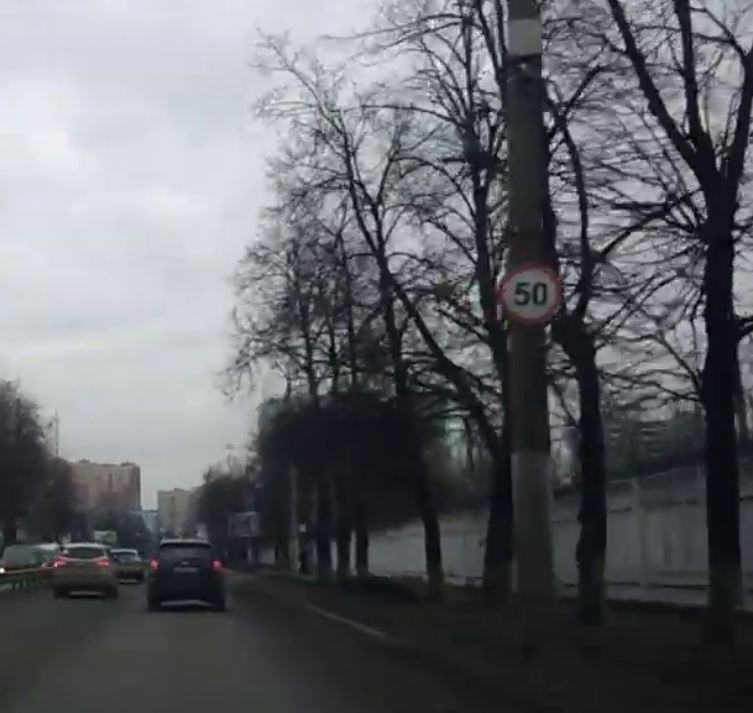50 Km Hiz Siniri: (498, 264, 567, 329)
